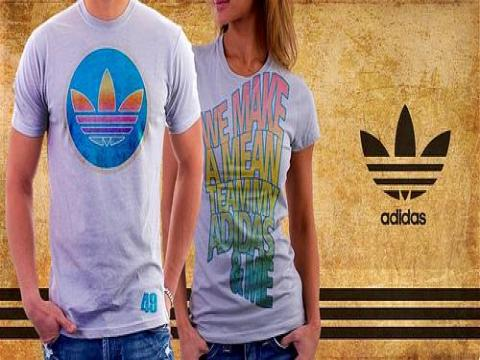addidas: (361, 106, 454, 200), (73, 70, 145, 146)
